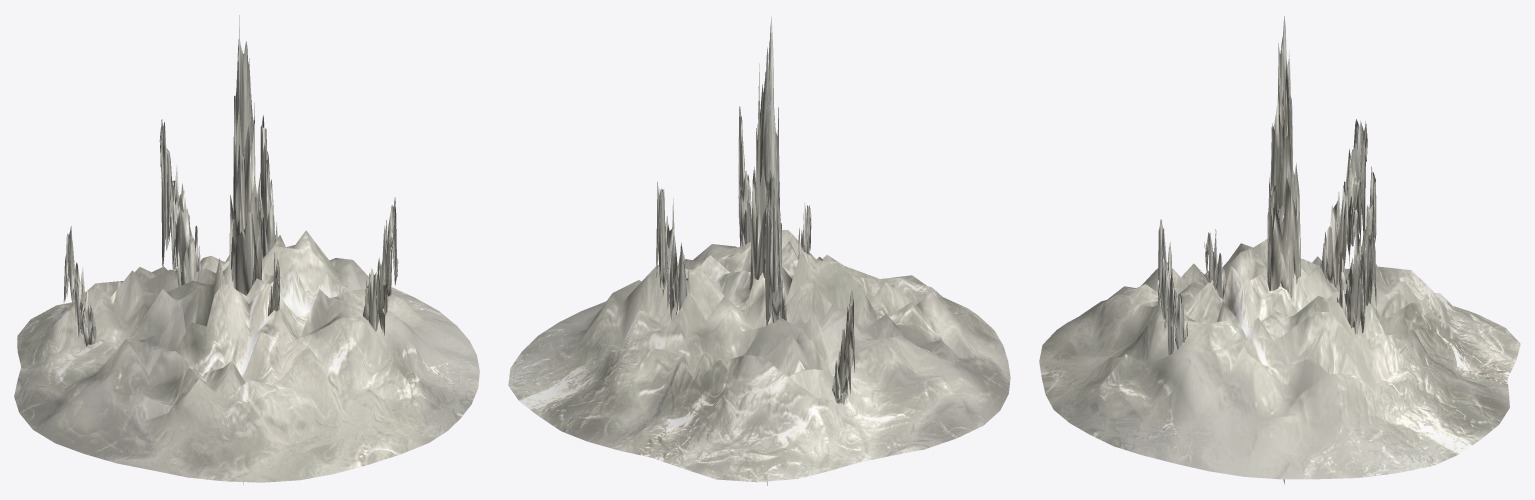
Rendered from IciclePile.fbx.
3 views of the same model, side by side, from view 1: azimuth 30°, elevation 25°; view 2: azimuth 150°, elevation 25°; view 3: azimuth 270°, elevation 25° (orthographic).
Parts seen in each view (by area): view 1: IciclePile; view 2: IciclePile; view 3: IciclePile.
Part boxes in pixels (x1,y1,x2,y2): IciclePile: [14, 15, 479, 484]; IciclePile: [508, 16, 1010, 485]; IciclePile: [1039, 16, 1520, 484].
Bounding box in the file's own units: 332 × 352 × 327.
